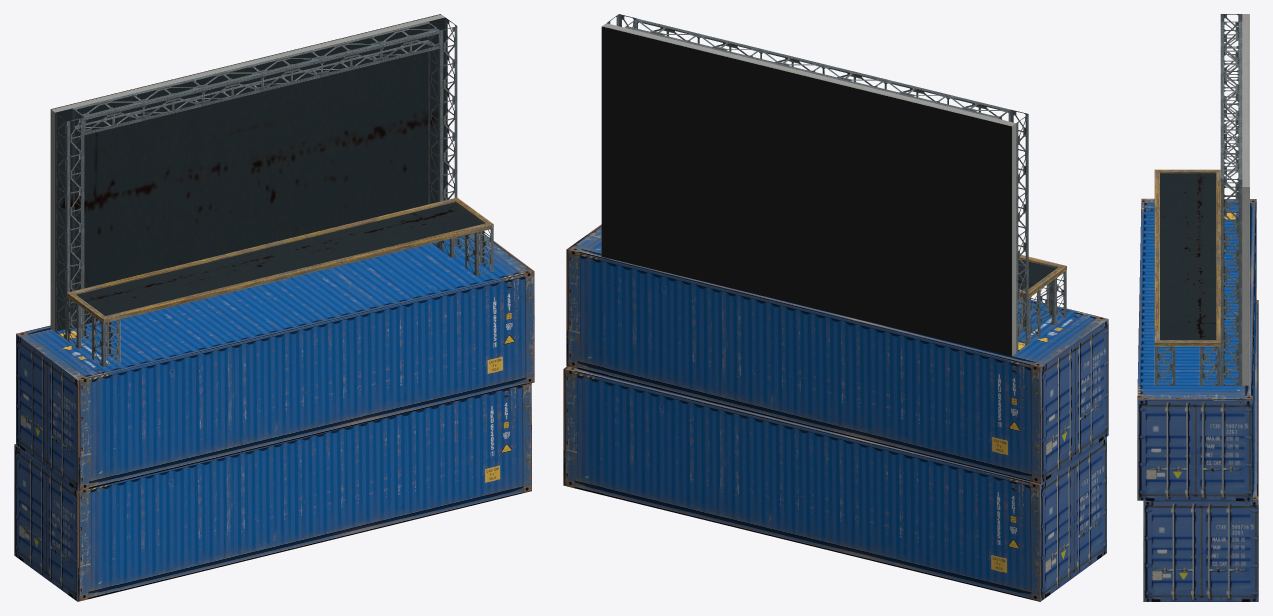
File: Big-Screen-08.fbx
3 views of the same model, side by side, from view 1: azimuth 30°, elevation 25°; view 2: azimuth 150°, elevation 25°; view 3: azimuth 270°, elevation 25° (orthographic). The views are drawn at different scales.
Parts seen in each view (by area): view 1: Screen-Container; view 2: Screen-Container, Screen; view 3: Screen-Container.
Boxes of the visible parts, x1,y1,x2,y2 form: Screen-Container: (14,14,534,601); Screen-Container: (563,14,1108,601); Screen: (601,27,1011,356); Screen-Container: (1137,14,1258,601).
Bounding box in the file's own units: 1242 × 1152 × 316.
